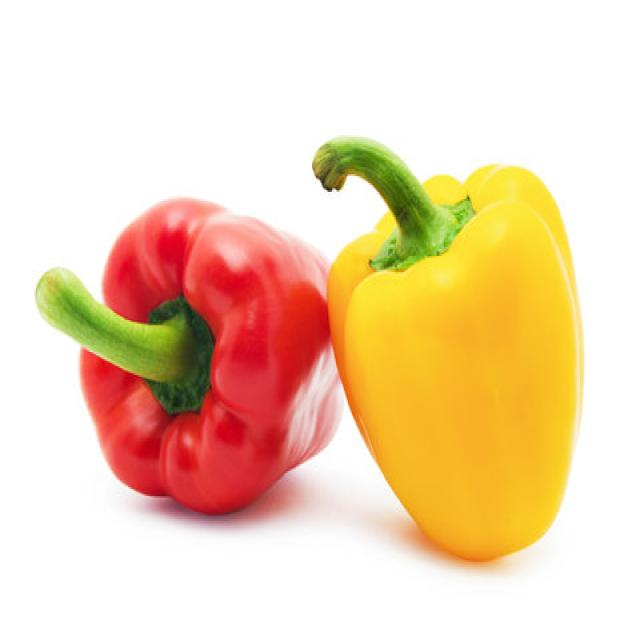Bell Pepper: (311, 133, 584, 562), (33, 194, 344, 516)
